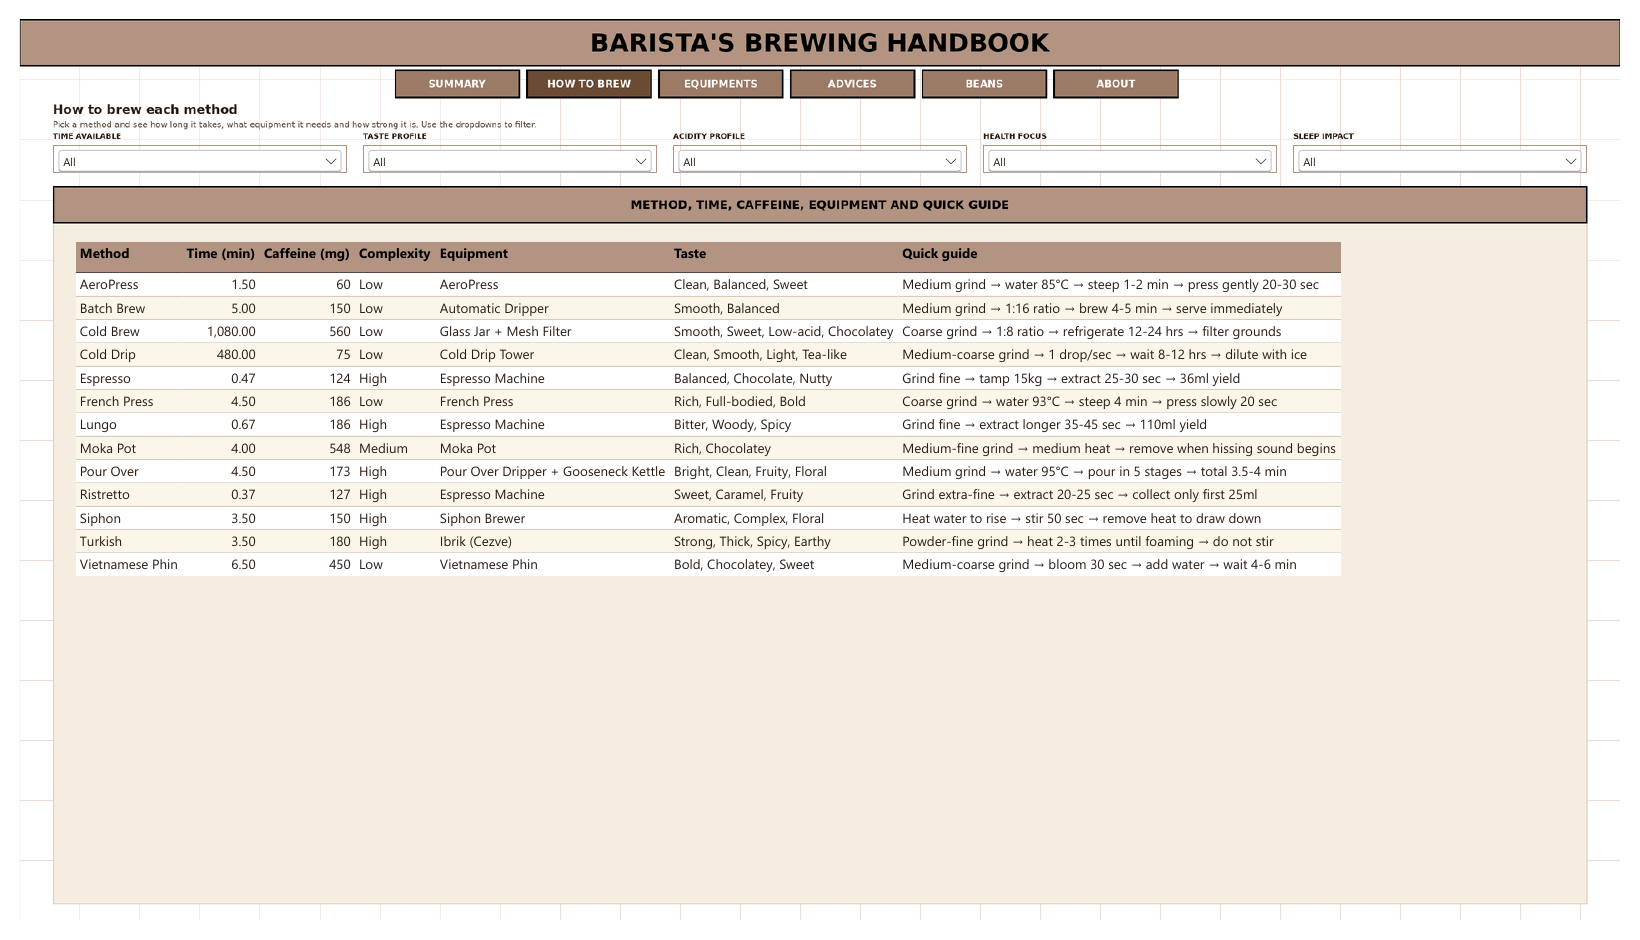

This screenshot's page, from the dashboard's own definition file:
{"tool":"powerbi","page":{"name":"How To Brew","canvas":[1920,1080],"ordinal":1},"visuals":[{"type":"tableEx","fields":{"Values":["dim_brew_method.method_name","dim_brew_method.brew_time_min","dim_brew_method.caffeine_mg","dim_brew_method.complexity","dim_brew_method.equipment","dim_brew_method.primary_taste","dim_brew_method.quick_guide"]},"box":[50,252,1820,800],"z":1280},{"type":"slicer","fields":{"Values":["dim_brew_method.Time Bucket"]},"box":[40,150,352,34],"z":7022},{"type":"slicer","fields":{"Values":["dim_brew_method.Lead Taste"]},"box":[412,150,352,34],"z":7023},{"type":"slicer","fields":{"Values":["dim_brew_method.Acidity Profile"]},"box":[784,150,352,34],"z":7024},{"type":"slicer","fields":{"Values":["dim_brew_method.Health Focus"]},"box":[1156,150,352,34],"z":7025},{"type":"slicer","fields":{"Values":["dim_brew_method.sleep_impact"]},"box":[1528,150,352,34],"z":7026},{"type":"actionButton","box":[450,60,150,34],"z":9028},{"type":"actionButton","box":[608,60,150,34],"z":9029},{"type":"actionButton","box":[766,60,150,34],"z":9030},{"type":"actionButton","box":[924,60,150,34],"z":9031},{"type":"actionButton","box":[1082,60,150,34],"z":9032},{"type":"actionButton","box":[1240,60,150,34],"z":9033}]}

Visuals, with their boxes on the page's 1920x1080 design canvas (x1, y1, x2, y2). These are canvas units, not pixel positions in the 1640x940 screenshot, which may show the page scaled, cropped or inside an application window:
tableEx - dim_brew_method.method_name x dim_brew_method.brew_time_min: bbox=(50, 252, 1870, 1052)
slicer - dim_brew_method.Time Bucket: bbox=(40, 150, 392, 184)
slicer - dim_brew_method.Lead Taste: bbox=(412, 150, 764, 184)
slicer - dim_brew_method.Acidity Profile: bbox=(784, 150, 1136, 184)
slicer - dim_brew_method.Health Focus: bbox=(1156, 150, 1508, 184)
slicer - dim_brew_method.sleep_impact: bbox=(1528, 150, 1880, 184)
actionButton: bbox=(450, 60, 600, 94)
actionButton: bbox=(608, 60, 758, 94)
actionButton: bbox=(766, 60, 916, 94)
actionButton: bbox=(924, 60, 1074, 94)
actionButton: bbox=(1082, 60, 1232, 94)
actionButton: bbox=(1240, 60, 1390, 94)
